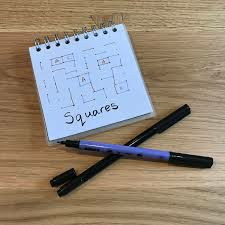pen: (51, 131, 220, 170)
